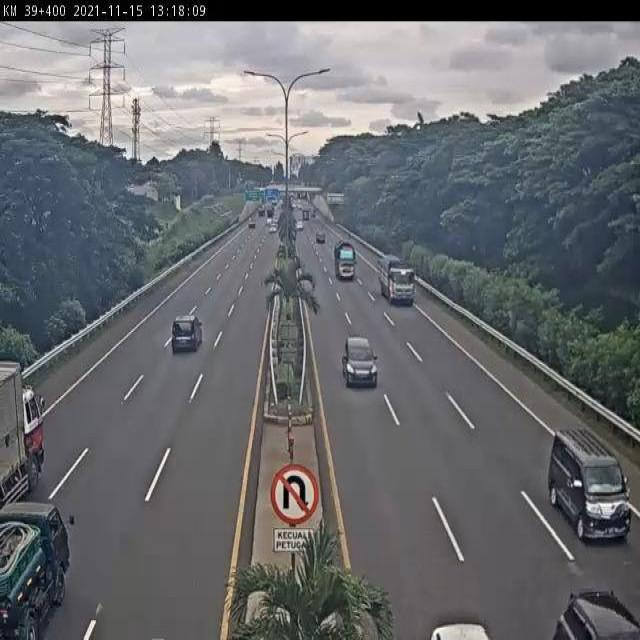car: (546, 424, 632, 543), (341, 335, 379, 389), (171, 312, 202, 353)
truck-l-: (0, 357, 45, 507), (376, 253, 416, 306)
truck-m-: (0, 490, 72, 640), (332, 239, 357, 281)
